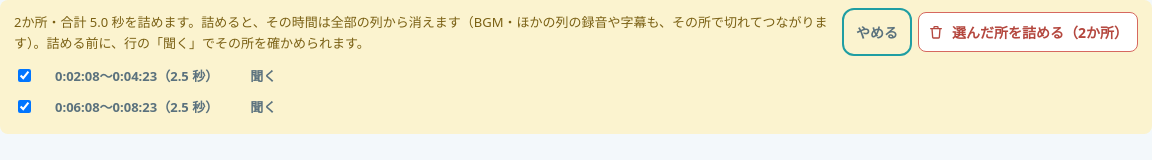
Scenario: SilenceFindPanel › 全部外すと「詰める」は押せない（押しても何も起きない、を作らない）
The width and height of the screenshot is (1152, 160).
Click the checkbox named "0:02:08〜0:04:23 を詰める".
click(24, 75)  # box [18,69,31,82]
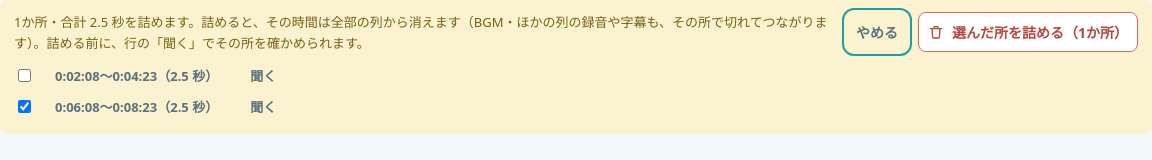
Click the checkbox named "0:06:08〜0:08:23 を詰める".
click(24, 106)  # box [18,100,31,113]
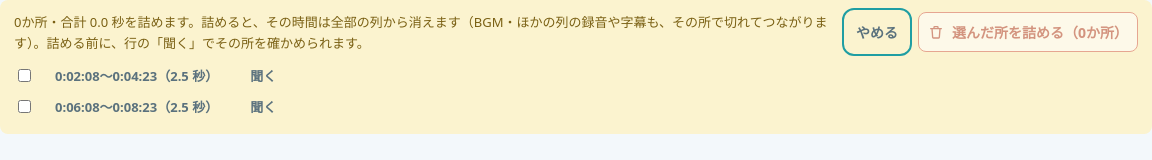
Check: the button "選んだ所を詰める（0か所）" is disabled, box [918,12,1138,52]
